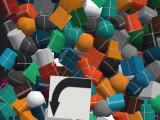Left: (47, 75, 92, 120)
